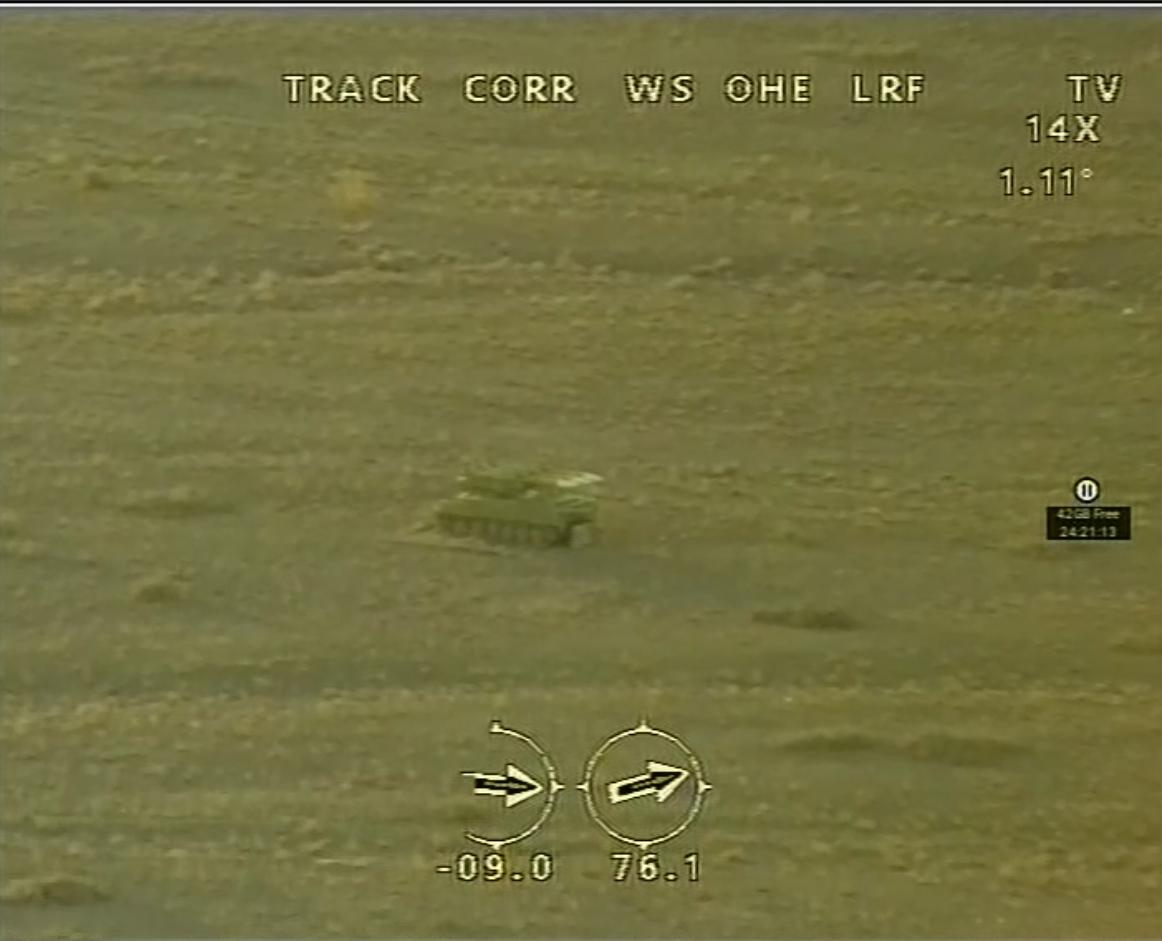armored_car: (431, 450, 611, 556)
